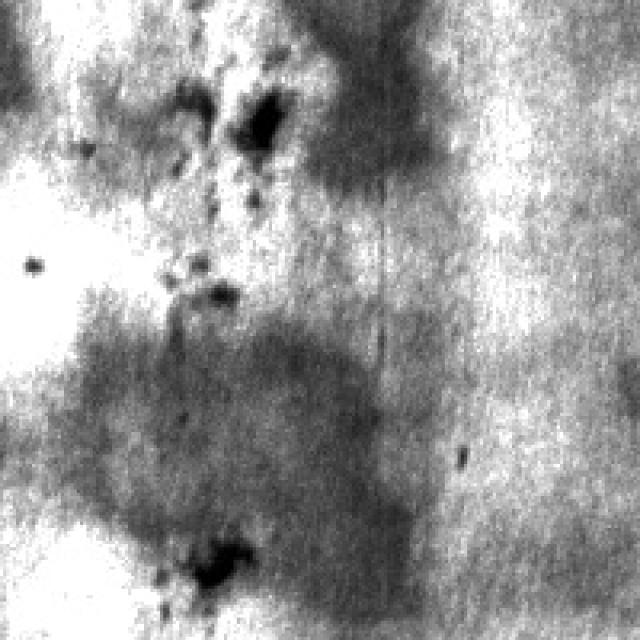inclusion: (179, 70, 291, 166), (157, 525, 259, 611)
patches: (42, 320, 419, 614), (282, 0, 435, 186)
